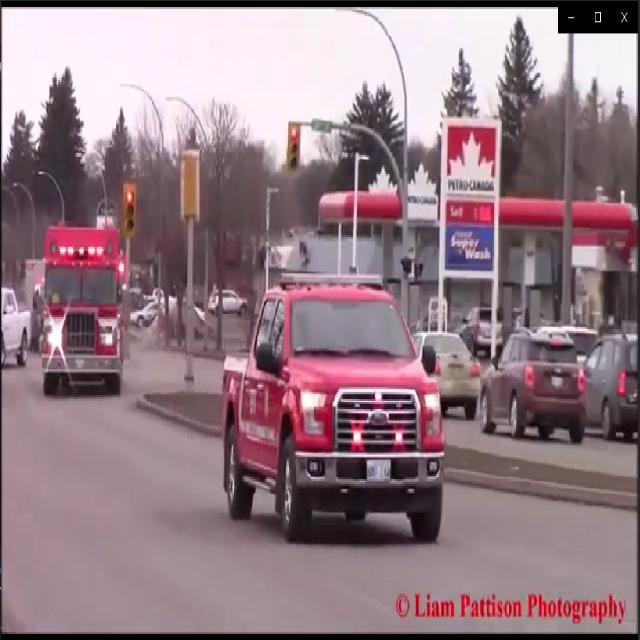emergency: (214, 261, 445, 550), (38, 216, 127, 400)
